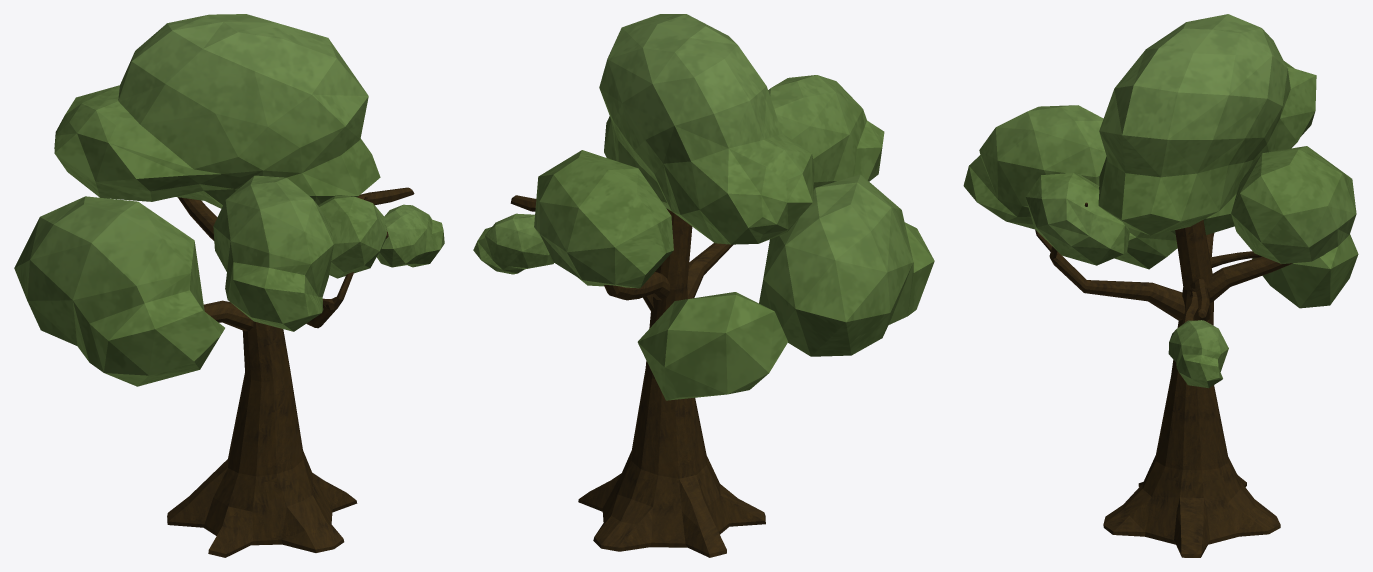
Rendered from Tree_Monster.fbx.
The picture shows the model from 3 angles, left to right: view 1: azimuth 30°, elevation 25°; view 2: azimuth 150°, elevation 25°; view 3: azimuth 270°, elevation 25°; orthographic projection. The views are drawn at different scales.
Visible parts, largest first — view 1: GeoSphere087, GeoSphere090, Cylinder072, GeoSphere086, GeoSphere085, GeoSphere091, Cylinder076, Cylinder075, Cylinder074, Cylinder073; view 2: GeoSphere087, GeoSphere090, Cylinder072, GeoSphere088, GeoSphere089, GeoSphere086, GeoSphere091, Cylinder074, Cylinder075; view 3: GeoSphere087, Cylinder072, GeoSphere088, GeoSphere086, GeoSphere085, GeoSphere089, GeoSphere091, Cylinder074, GeoSphere090, Cylinder075, Cylinder073.
Part boxes in pixels (x1,y1,x2,y2): GeoSphere087: (54,14,380,208); GeoSphere090: (14,196,224,386); Cylinder072: (167,321,357,557); GeoSphere086: (213,175,333,331); GeoSphere085: (318,195,386,278); GeoSphere091: (377,204,444,267); Cylinder076: (203,300,253,331); Cylinder075: (178,197,217,240); Cylinder074: (306,196,368,328); Cylinder073: (357,187,414,238); GeoSphere087: (599,14,814,244); GeoSphere090: (759,174,934,356); Cylinder072: (578,208,765,557); GeoSphere088: (534,150,673,288); GeoSphere089: (637,292,787,400); GeoSphere086: (768,75,884,187); GeoSphere091: (473,213,553,274); Cylinder074: (687,243,733,298); Cylinder075: (604,272,670,300); GeoSphere087: (1098,14,1316,235); Cylinder072: (1103,220,1280,557); GeoSphere088: (1231,146,1356,263); GeoSphere086: (963,105,1106,229); GeoSphere085: (1025,173,1129,265); GeoSphere089: (1252,234,1358,308); GeoSphere091: (1168,320,1228,388); Cylinder074: (1035,202,1184,320); GeoSphere090: (1114,194,1236,269); Cylinder075: (1207,256,1292,302); Cylinder073: (1182,279,1211,324).
Bounding box in the file's own units: 861 × 993 × 750.
Materials: 2 (2 with a texture image).
